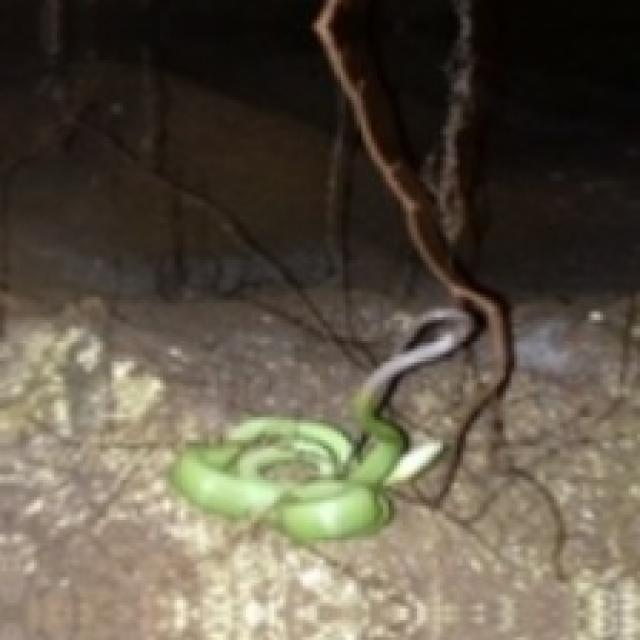red-tailed green ratsnake: (171, 309, 474, 540)
